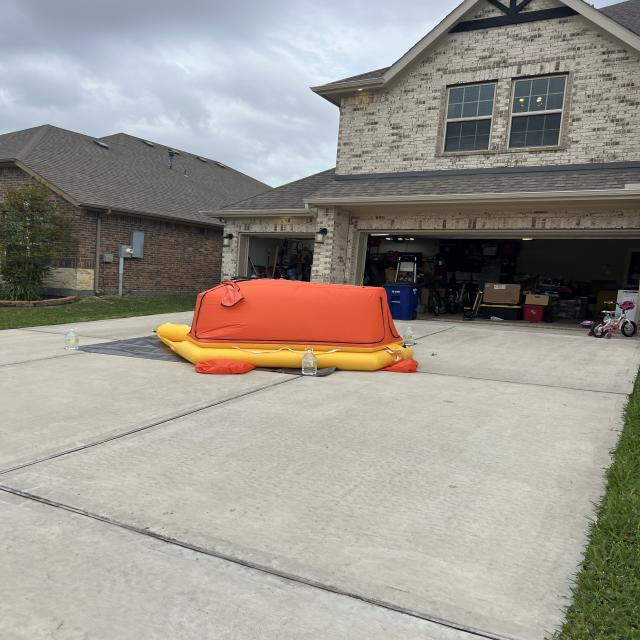Multi-person_life_raft: (156, 278, 419, 376)
